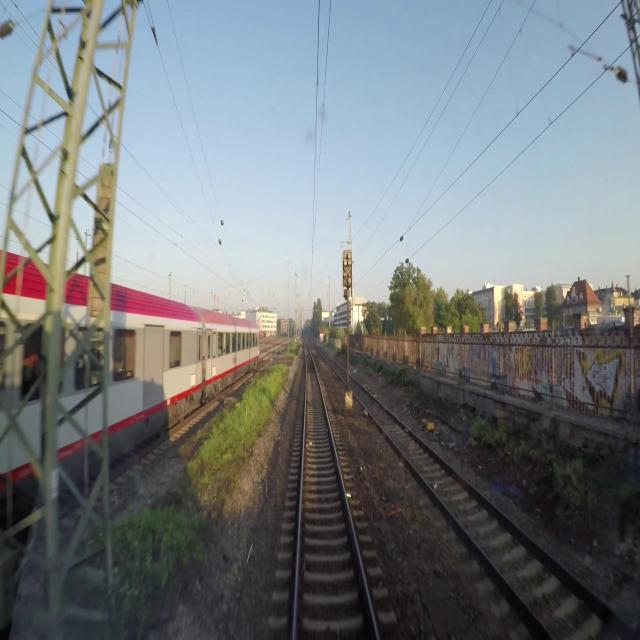rail-track: (349, 378, 639, 639), (296, 348, 373, 639)
